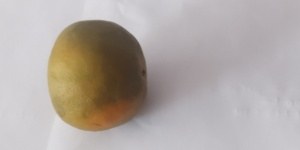BAD: (45, 19, 150, 131)
